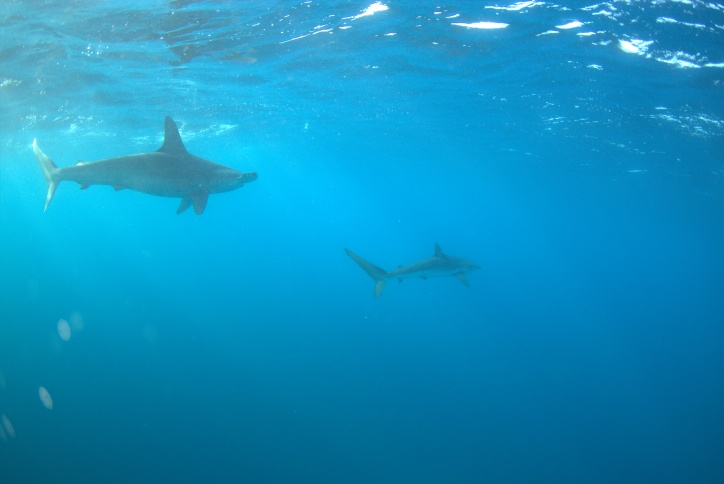Sedoso: (327, 239, 493, 310)
